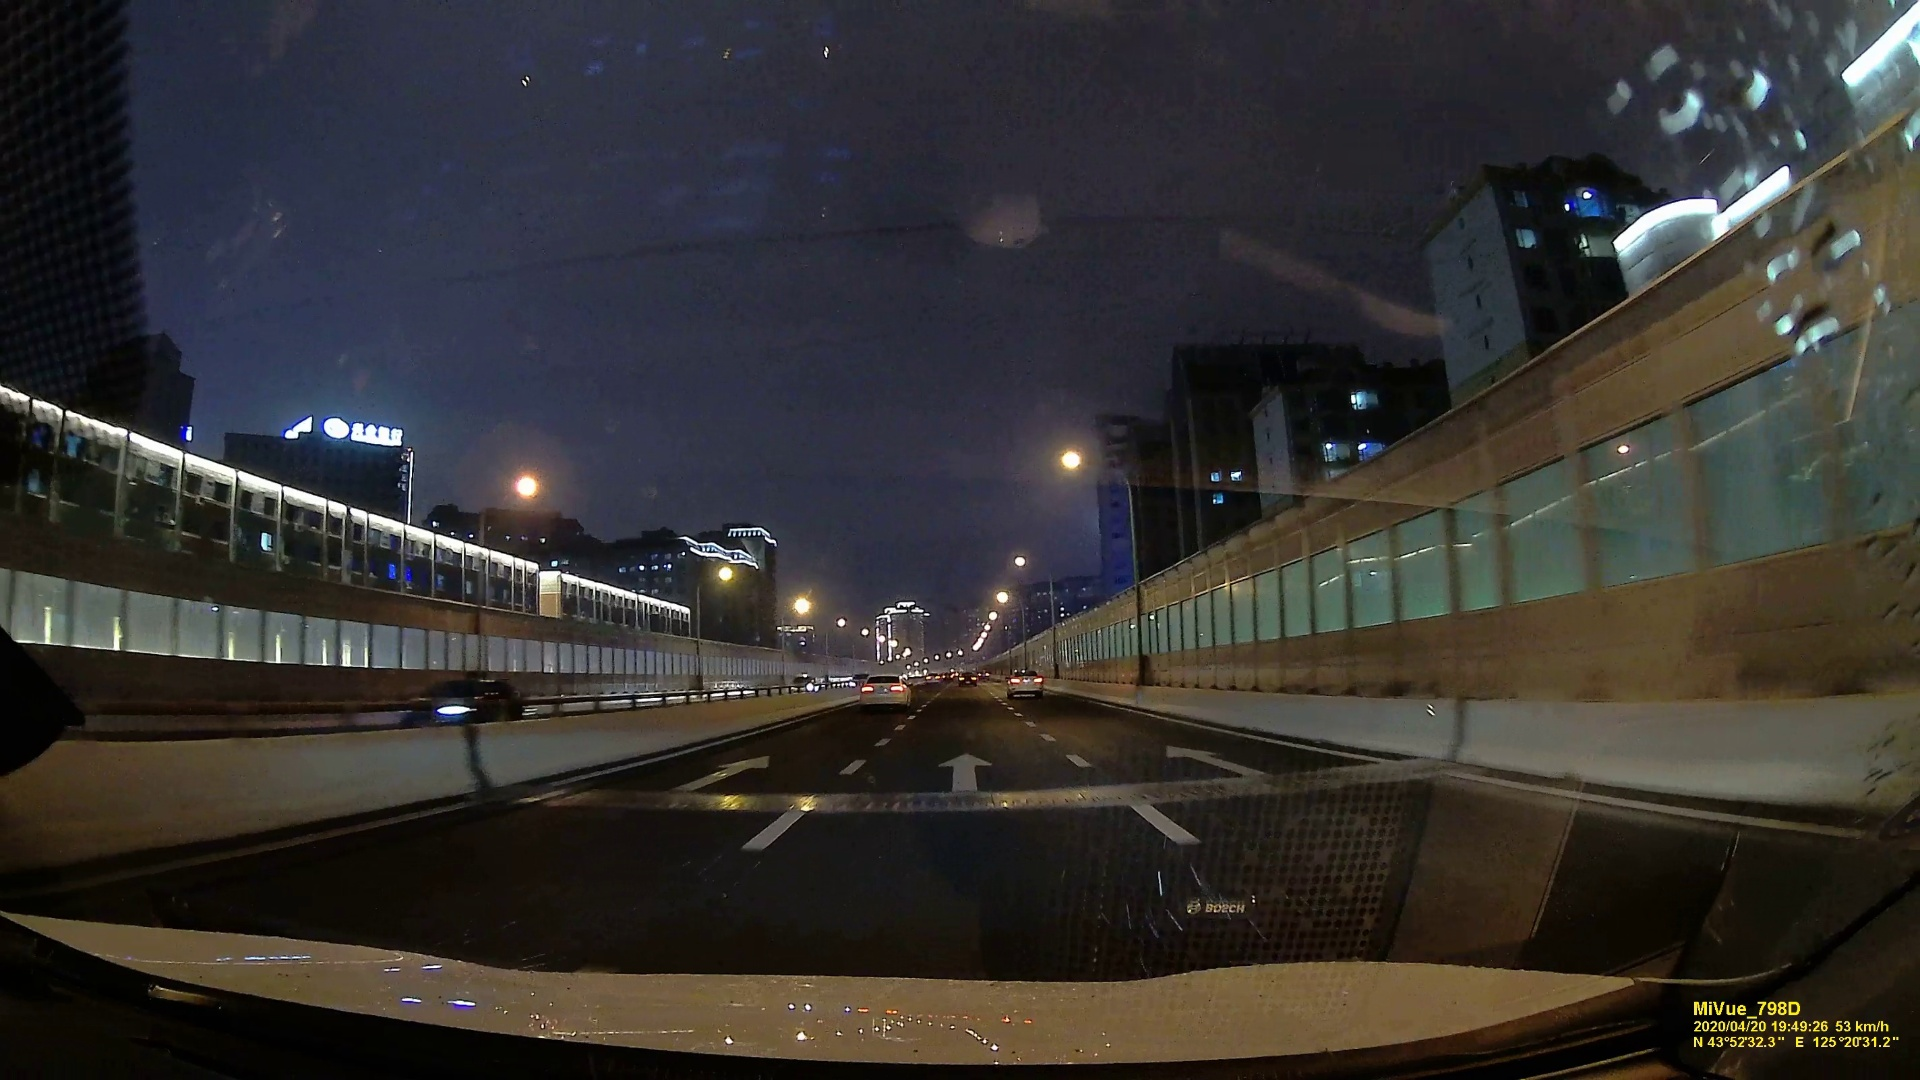vehicle: (396, 669, 526, 731), (857, 673, 909, 709), (1007, 669, 1044, 698), (957, 669, 978, 688)
